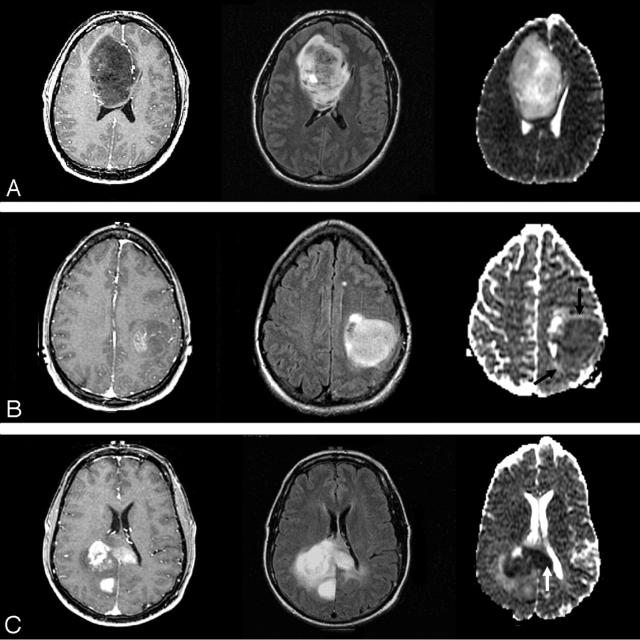Tumor: (512, 39, 563, 117), (298, 34, 346, 106), (297, 540, 346, 600), (90, 36, 132, 101), (344, 316, 398, 366), (88, 538, 114, 563), (131, 331, 153, 357), (101, 574, 118, 593)
